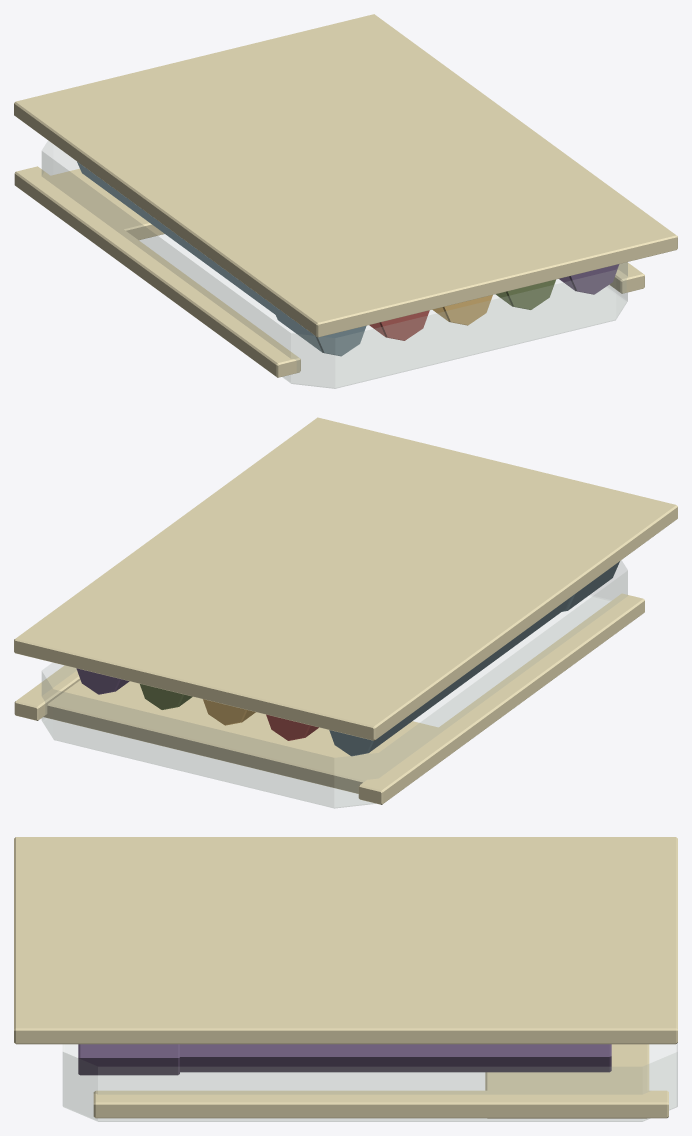
The model's file is markers.glb.
3 views of the same model, one above another, from view 1: azimuth 30°, elevation 25°; view 2: azimuth 150°, elevation 25°; view 3: azimuth 270°, elevation 25° (orthographic). The views are drawn at different scales.
Parts seen in each view (by area): view 1: markers; view 2: markers; view 3: markers.
Part boxes in pixels (<box>): markers: <box>14,14,677,388</box>; markers: <box>14,417,677,808</box>; markers: <box>14,837,677,1121</box>.
Size of the model in its own units: 0.105 by 0.025 by 0.15.
